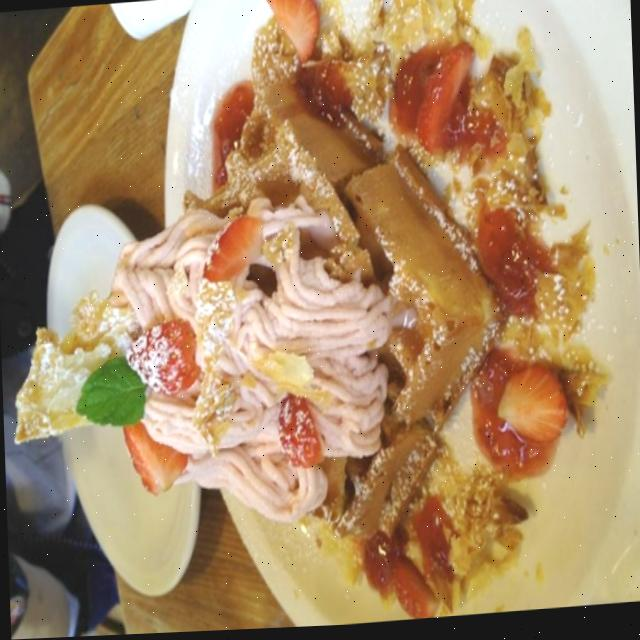炸货点心: (4, 0, 634, 640)
蛋糕甜品: (4, 0, 634, 640)
